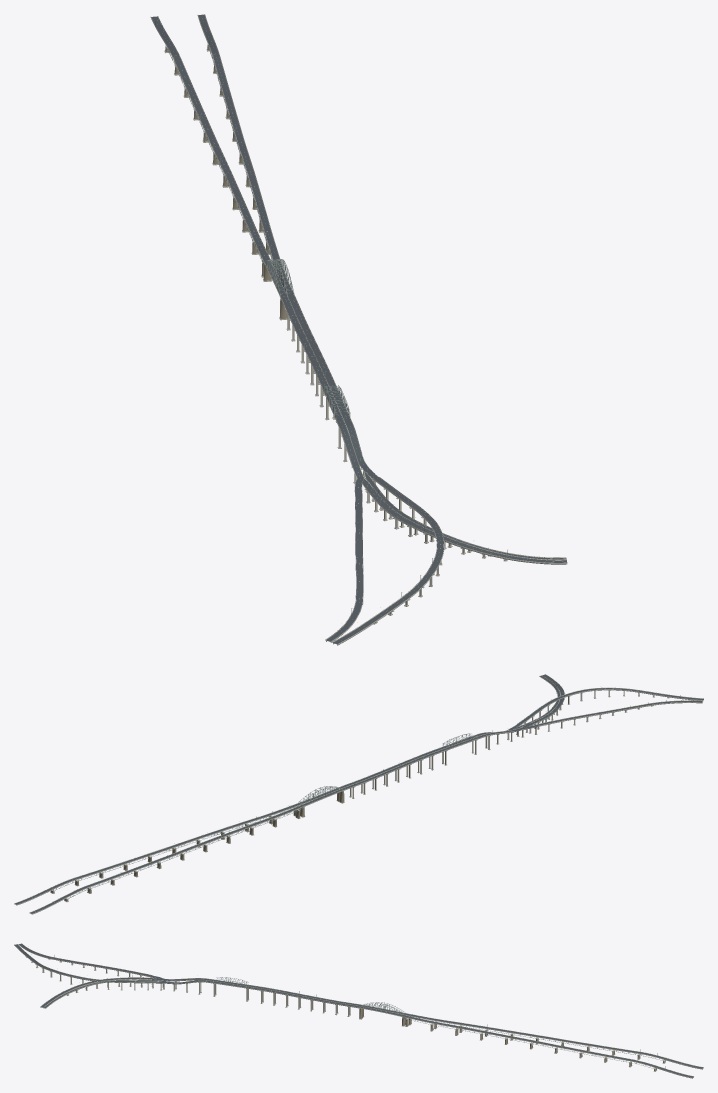
The model's file is pont-honore-mercier-near.glb.
3 views of the same model, one above another, from view 1: azimuth 30°, elevation 25°; view 2: azimuth 150°, elevation 25°; view 3: azimuth 270°, elevation 25° (orthographic). The views are drawn at different scales.
Visible parts, largest first — view 1: pont-honore-mercier-downstream-0-asphalt, pont-honore-mercier-upstream-0-asphalt, pont-honore-mercier-downstream-0-concrete, pont-honore-mercier-upstream-0-concrete, pont-honore-mercier-laprairie_out-0-concrete; view 2: pont-honore-mercier-upstream-0-asphalt, pont-honore-mercier-downstream-0-asphalt, pont-honore-mercier-upstream-0-concrete, pont-honore-mercier-downstream-0-concrete, pont-honore-mercier-upstream-0-steel, pont-honore-mercier-upstream-1-concrete, pont-honore-mercier-upstream-1-steel, pont-honore-mercier-downstream-0-steel, pont-honore-mercier-downstream-1-concrete; view 3: pont-honore-mercier-downstream-0-concrete, pont-honore-mercier-upstream-0-concrete, pont-honore-mercier-downstream-0-asphalt, pont-honore-mercier-upstream-0-asphalt, pont-honore-mercier-downstream-1-concrete, pont-honore-mercier-downstream-0-steel, pont-honore-mercier-upstream-0-steel, pont-honore-mercier-downstream-1-steel, pont-honore-mercier-upstream-1-concrete, pont-honore-mercier-laprairie_in-0-concrete, pont-honore-mercier-upstream-1-steel, pont-honore-mercier-laprairie_out-0-asphalt.
Part boxes in pixels (<box>): pont-honore-mercier-downstream-0-asphalt: <box>198,14,443,644</box>; pont-honore-mercier-upstream-0-asphalt: <box>151,16,363,641</box>; pont-honore-mercier-downstream-0-concrete: <box>197,14,444,644</box>; pont-honore-mercier-upstream-0-concrete: <box>150,16,364,642</box>; pont-honore-mercier-laprairie_out-0-concrete: <box>362,479,567,563</box>; pont-honore-mercier-upstream-0-asphalt: <box>30,700,702,913</box>; pont-honore-mercier-downstream-0-asphalt: <box>14,688,703,904</box>; pont-honore-mercier-upstream-0-concrete: <box>29,700,702,914</box>; pont-honore-mercier-downstream-0-concrete: <box>14,687,703,904</box>; pont-honore-mercier-upstream-0-steel: <box>29,790,322,914</box>; pont-honore-mercier-upstream-1-concrete: <box>339,712,614,803</box>; pont-honore-mercier-upstream-1-steel: <box>321,702,702,797</box>; pont-honore-mercier-downstream-0-steel: <box>14,787,323,905</box>; pont-honore-mercier-downstream-1-concrete: <box>336,691,596,801</box>; pont-honore-mercier-downstream-0-concrete: <box>14,944,693,1078</box>; pont-honore-mercier-upstream-0-concrete: <box>18,943,703,1069</box>; pont-honore-mercier-downstream-0-asphalt: <box>14,944,693,1077</box>; pont-honore-mercier-upstream-0-asphalt: <box>19,943,703,1068</box>; pont-honore-mercier-downstream-1-concrete: <box>59,974,362,1019</box>; pont-honore-mercier-downstream-0-steel: <box>379,1004,693,1078</box>; pont-honore-mercier-upstream-0-steel: <box>384,1003,702,1069</box>; pont-honore-mercier-downstream-1-steel: <box>43,968,380,1011</box>; pont-honore-mercier-upstream-1-concrete: <box>82,965,364,1017</box>; pont-honore-mercier-laprairie_in-0-concrete: <box>43,979,164,1008</box>; pont-honore-mercier-upstream-1-steel: <box>34,954,384,1008</box>; pont-honore-mercier-laprairie_out-0-asphalt: <box>40,977,161,1007</box>.
Bounding box in the file's own units: 845 × 55.44 × 1831.
